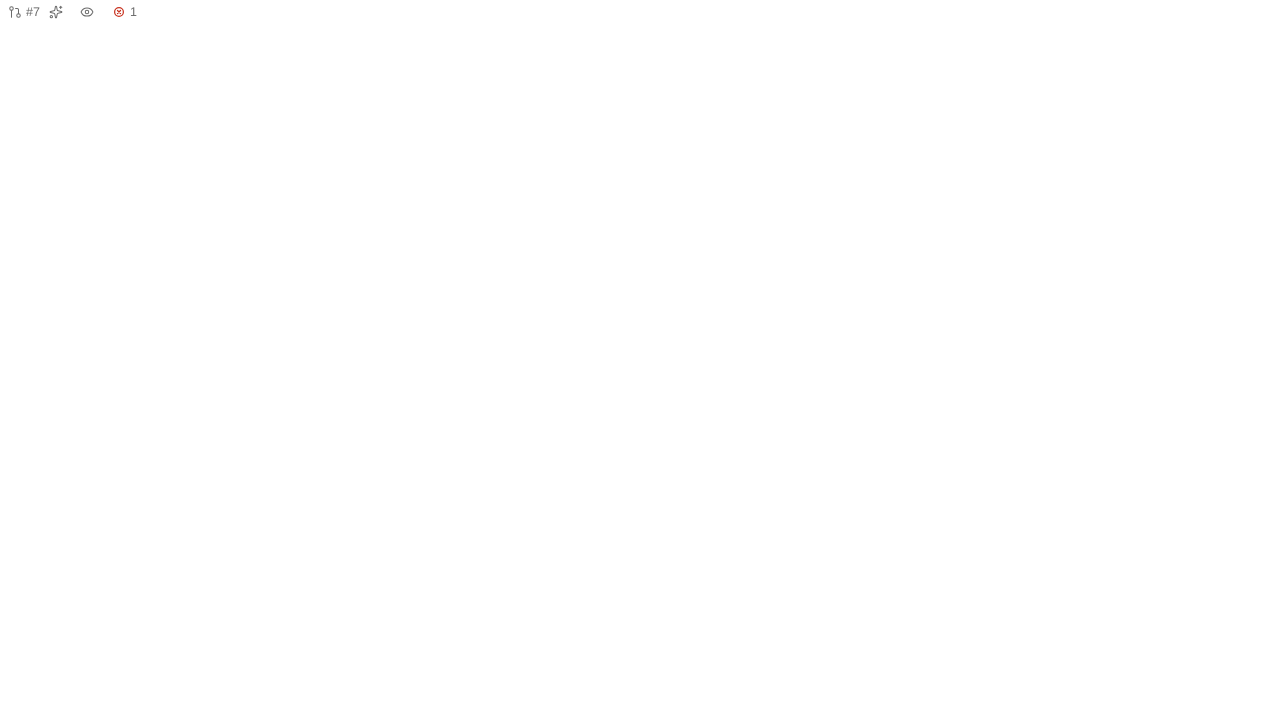
says why nothing can be sent to a run the member may not message
Click the 2nd button named "1 failing" at coordinates (126, 12), box [106,0,145,24]
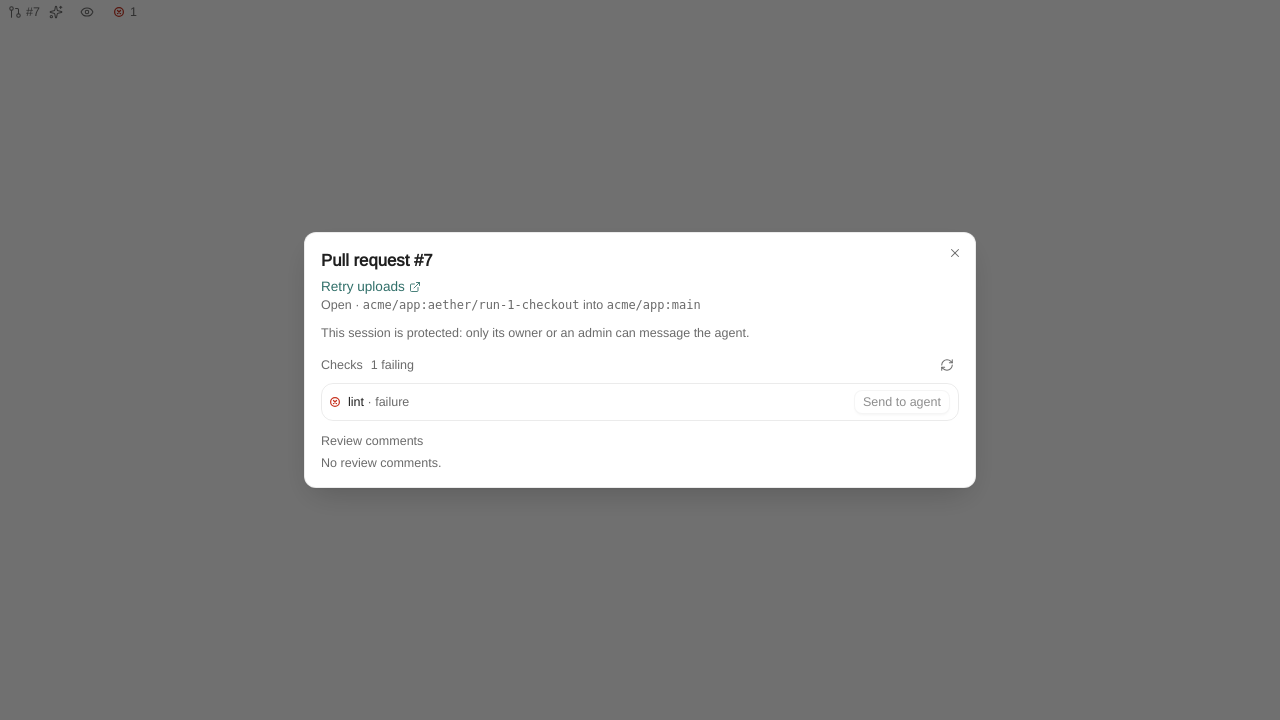
Expected: the 3rd text "This session is protected: only its owner or an admin can message the agent." is shown, [321,325,749,341]
Expected: the button named "Send to agent" is disabled, [854,390,950,414]
